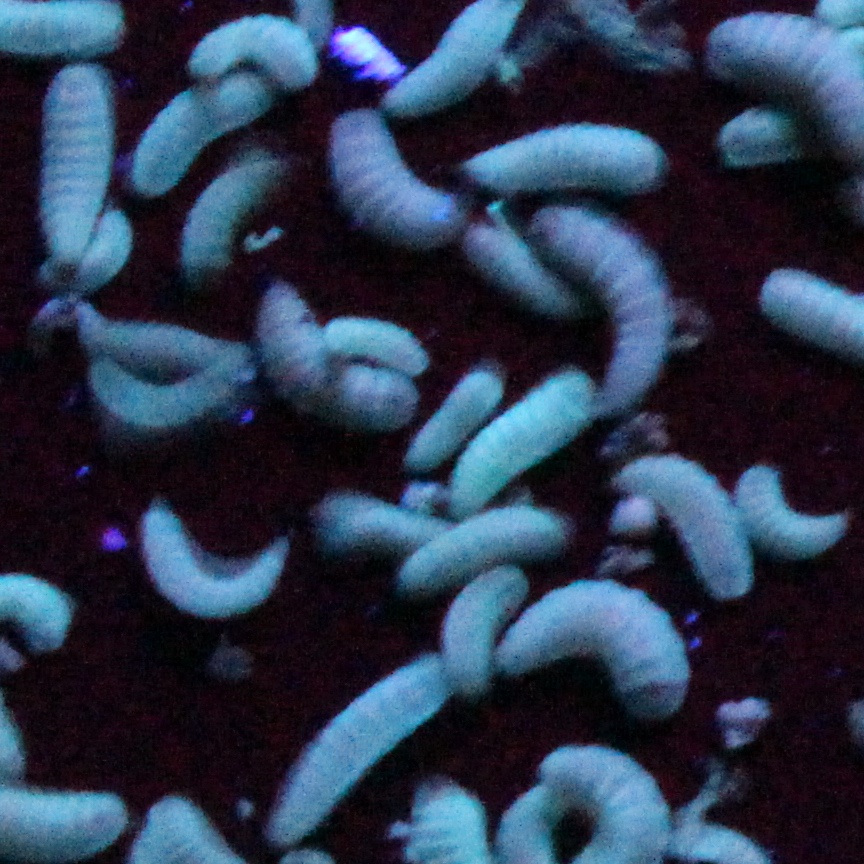larve: (285, 653, 439, 817), (515, 581, 680, 710), (266, 293, 413, 432), (546, 212, 648, 389), (717, 19, 864, 133), (462, 375, 581, 514), (127, 75, 266, 186), (632, 461, 748, 582), (350, 114, 453, 244), (388, 2, 506, 110), (411, 507, 550, 586), (150, 514, 269, 605), (194, 153, 269, 277), (464, 216, 562, 309), (43, 67, 95, 242), (80, 314, 232, 372), (95, 367, 231, 430), (739, 460, 834, 549), (480, 135, 657, 182), (197, 16, 315, 86), (450, 565, 502, 696), (417, 372, 499, 453), (60, 210, 136, 281), (724, 102, 808, 163), (336, 314, 431, 367), (325, 505, 436, 537)
